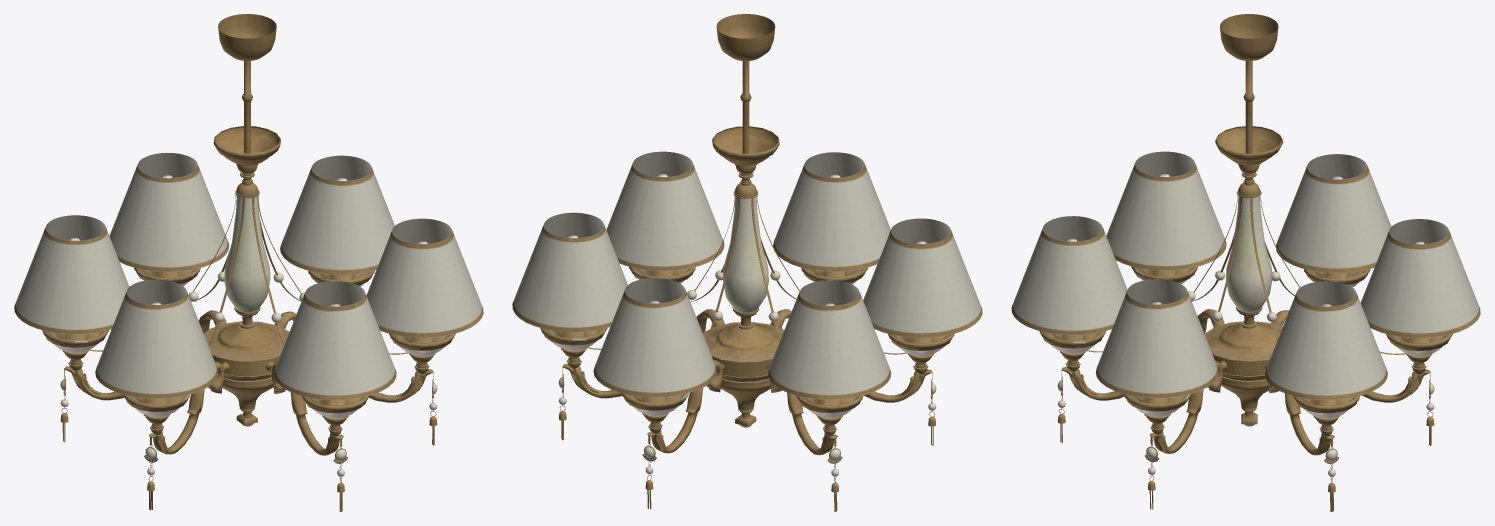
Rendered from Chandelier_01.glb.
3 renders of one model, left to right at view 1: azimuth 30°, elevation 25°; view 2: azimuth 150°, elevation 25°; view 3: azimuth 270°, elevation 25°, orthographic.
Visible parts, largest first — view 1: Chandelier_01; view 2: Chandelier_01; view 3: Chandelier_01.
Part boxes in pixels (x1,y1,x2,y2): Chandelier_01: (14,14,483,511); Chandelier_01: (512,14,982,511); Chandelier_01: (1011,14,1480,511).
Size of the model in its own units: 0.7465 by 0.7983 by 0.8155.
Materials: 2 (1 with a texture image).
